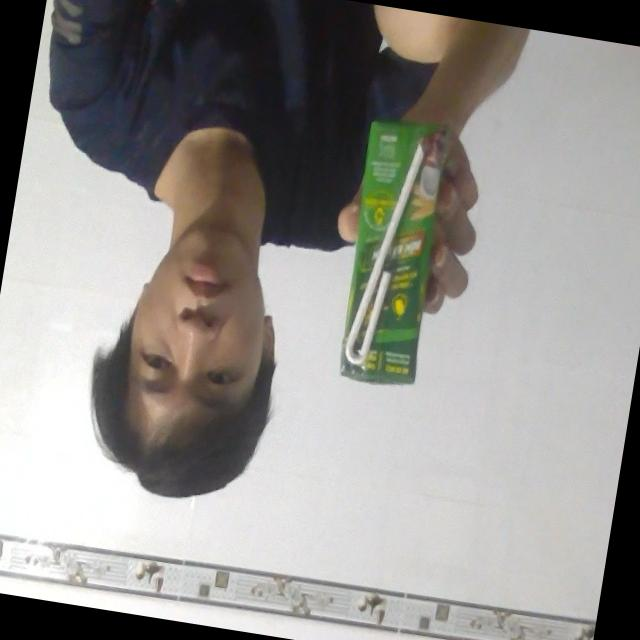sua milo: (308, 97, 468, 406)
